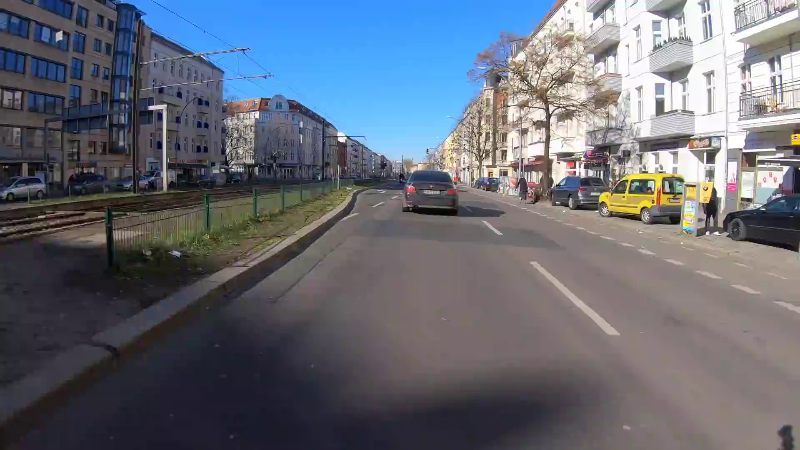Plate: (422, 188, 440, 195), (667, 198, 679, 203), (589, 191, 601, 195)
